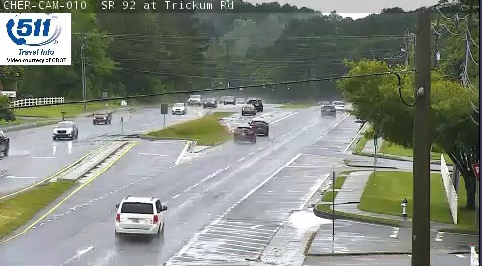car: (115, 196, 164, 234), (233, 126, 254, 143), (250, 120, 269, 136)
